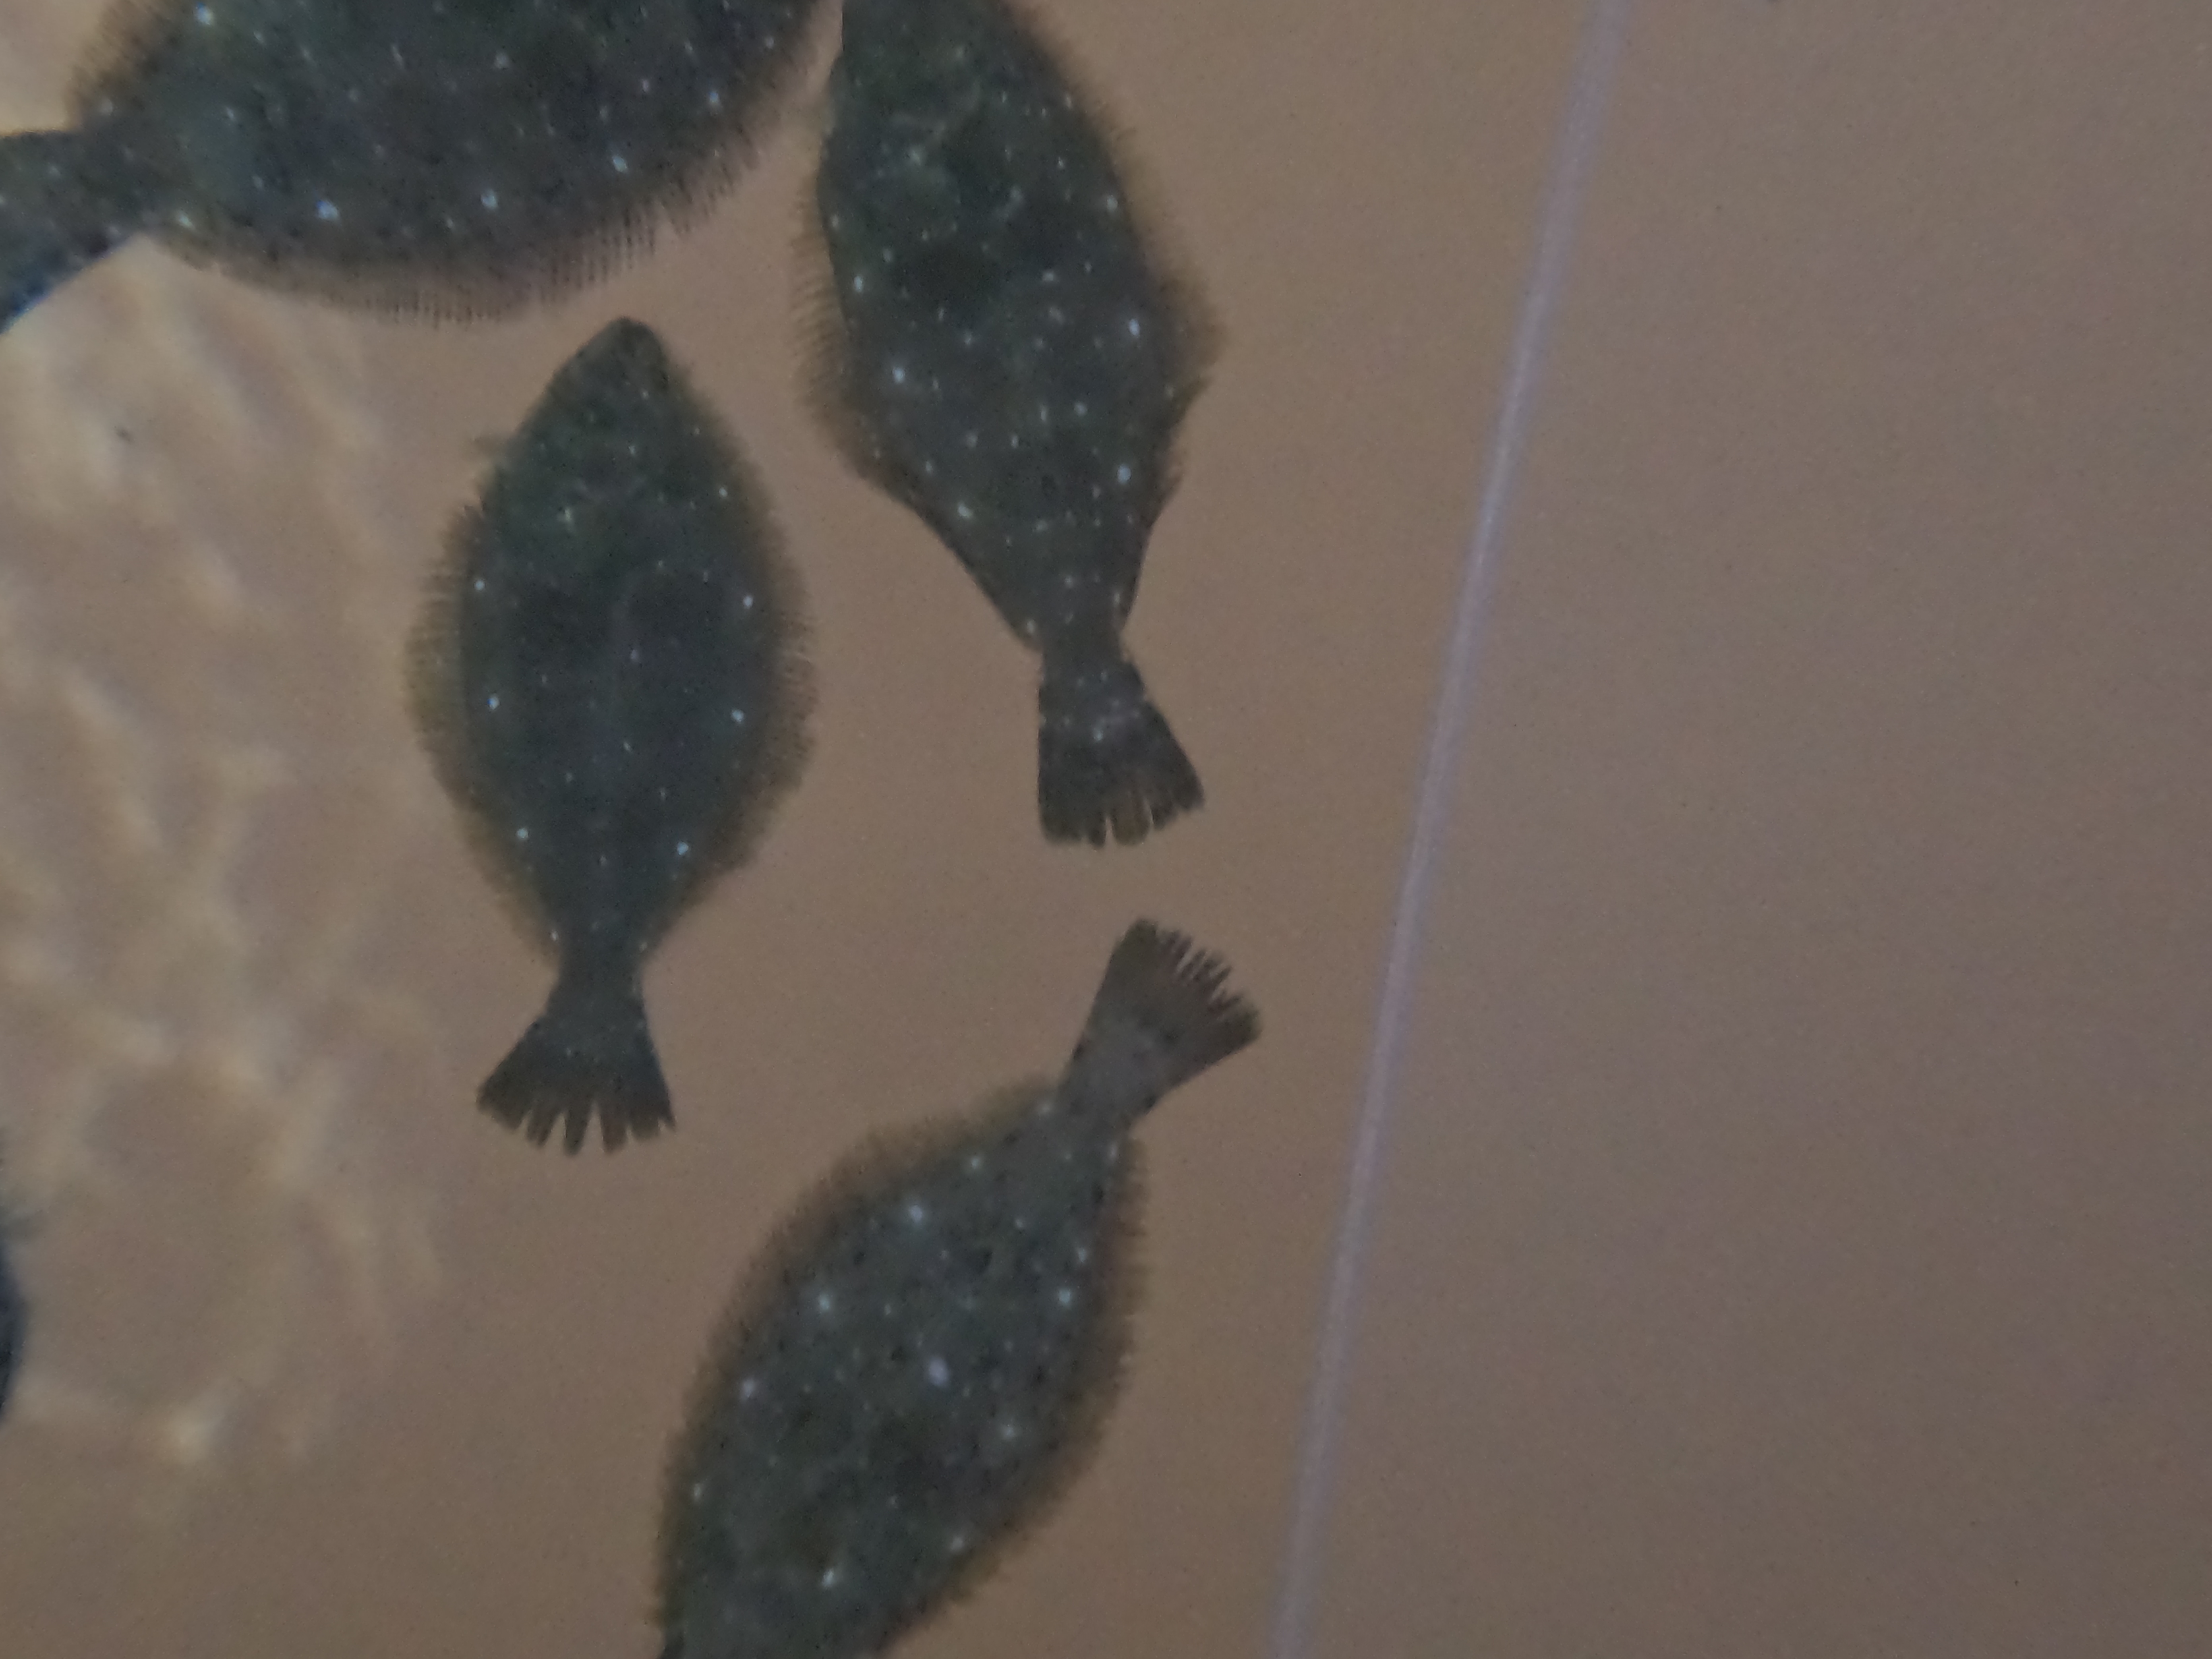non_o2: (660, 918, 1264, 1654), (402, 314, 819, 1150), (3, 3, 824, 338)
